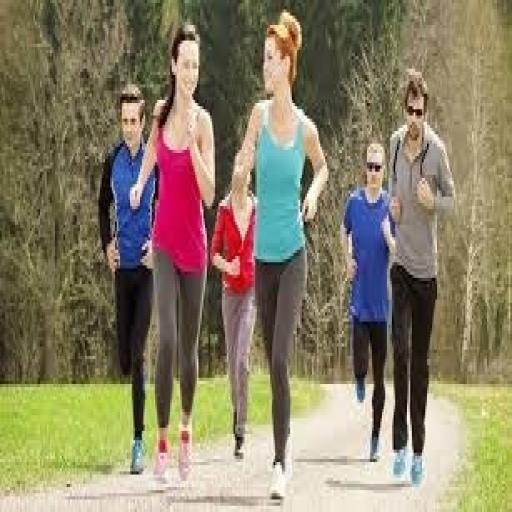running: (228, 9, 332, 503), (127, 22, 218, 487), (384, 66, 457, 487), (97, 81, 158, 478), (338, 138, 398, 466)
